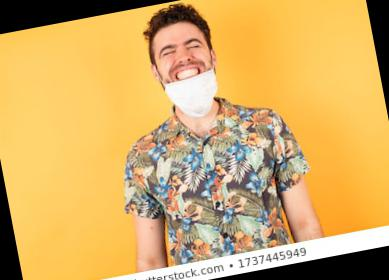mask_weared_incorrect: (152, 27, 220, 111)
